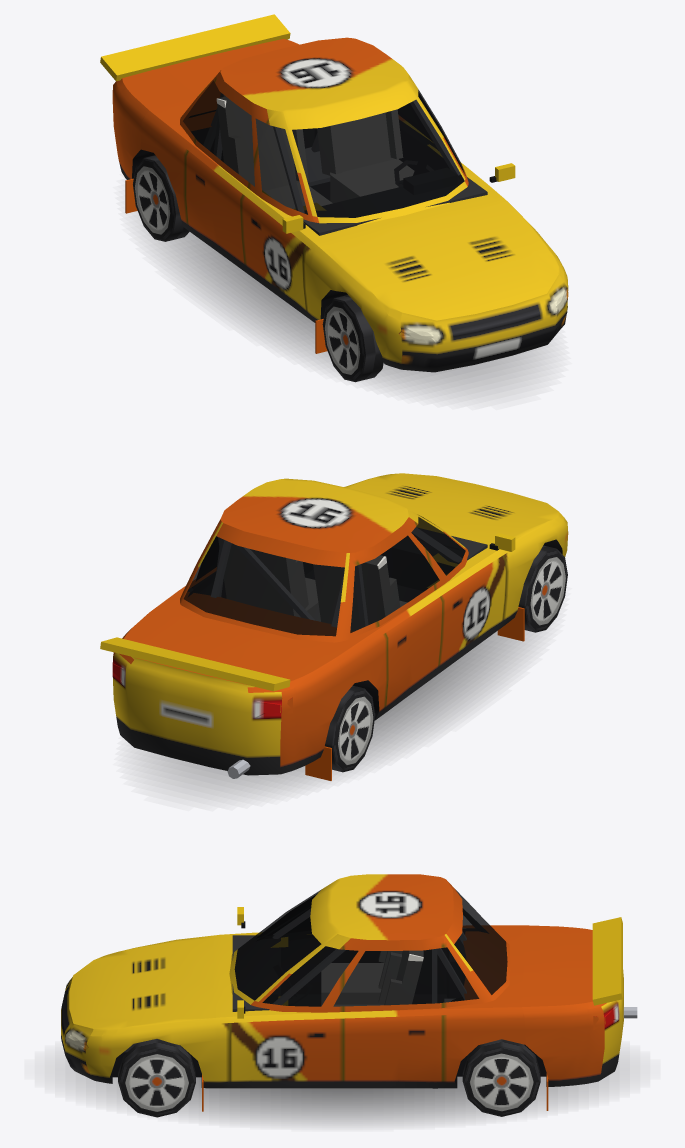
The model's file is quindim.glb.
3 views of the same model, one above another, from view 1: azimuth 30°, elevation 25°; view 2: azimuth 150°, elevation 25°; view 3: azimuth 270°, elevation 25° (orthographic). The views are drawn at different scales.
Parts seen in each view (by area): view 1: Carroceria, Interior, Capo_malha, Sombra, Porta_TD_malha, Tampa_malha, Porta_D_malha, Roda_DD, Roda_TD, Porta_E_malha, Farol; view 2: Carroceria, Interior, Sombra, Tampa_malha, Porta_TD_malha, Capo_malha, Porta_D_malha, Roda_TD, Roda_DD; view 3: Carroceria, Porta_TE_malha, Interior, Sombra, Porta_E_malha, Capo_malha, Tampa_malha, Roda_DE, Roda_TE, Porta_D_malha.
Boxes of the visible parts, bbox=[...] form: Carroceria: bbox=[112, 37, 568, 372]; Interior: bbox=[189, 93, 487, 294]; Capo_malha: bbox=[326, 203, 563, 320]; Sombra: bbox=[152, 232, 543, 394]; Porta_TD_malha: bbox=[185, 71, 275, 263]; Tampa_malha: bbox=[100, 14, 298, 108]; Porta_D_malha: bbox=[241, 111, 313, 309]; Roda_DD: bbox=[322, 295, 383, 382]; Roda_TD: bbox=[133, 155, 189, 241]; Porta_E_malha: bbox=[407, 78, 515, 184]; Farol: bbox=[398, 289, 568, 343]; Carroceria: bbox=[112, 476, 568, 780]; Interior: bbox=[188, 527, 487, 630]; Sombra: bbox=[143, 630, 534, 795]; Tampa_malha: bbox=[100, 614, 329, 692]; Porta_TD_malha: bbox=[351, 513, 442, 706]; Capo_malha: bbox=[348, 473, 563, 540]; Porta_D_malha: bbox=[407, 509, 515, 664]; Roda_TD: bbox=[325, 685, 375, 772]; Roda_DD: bbox=[518, 545, 567, 632]; Carroceria: bbox=[61, 874, 637, 1111]; Porta_TE_malha: bbox=[343, 935, 443, 1081]; Interior: bbox=[124, 907, 487, 1052]; Sombra: bbox=[65, 1059, 619, 1123]; Porta_E_malha: bbox=[229, 934, 343, 1080]; Capo_malha: bbox=[74, 938, 213, 1036]; Tampa_malha: bbox=[523, 917, 622, 1008]; Roda_DE: bbox=[118, 1039, 195, 1117]; Roda_TE: bbox=[462, 1039, 540, 1116]; Porta_D_malha: bbox=[237, 895, 315, 937].
Size of the model in its own units: 2.26 by 1.38 by 4.88.
13 materials, 5 textured.
